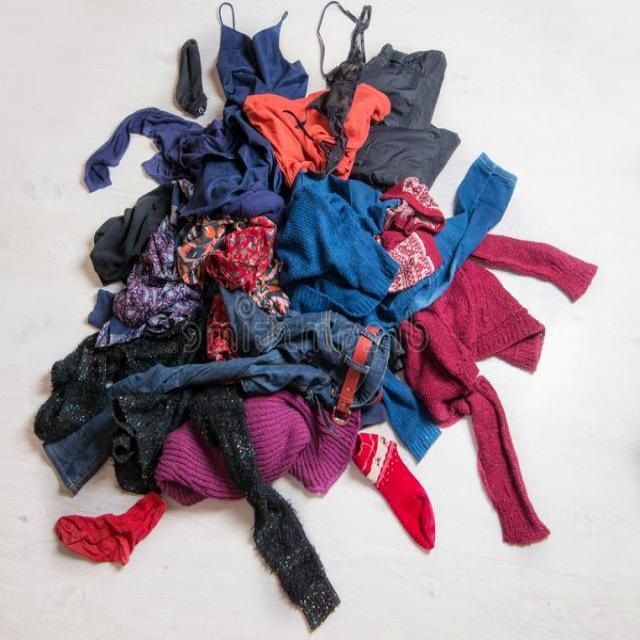clothes: (162, 140, 424, 444), (426, 248, 555, 431), (202, 61, 448, 142), (90, 276, 156, 536)
